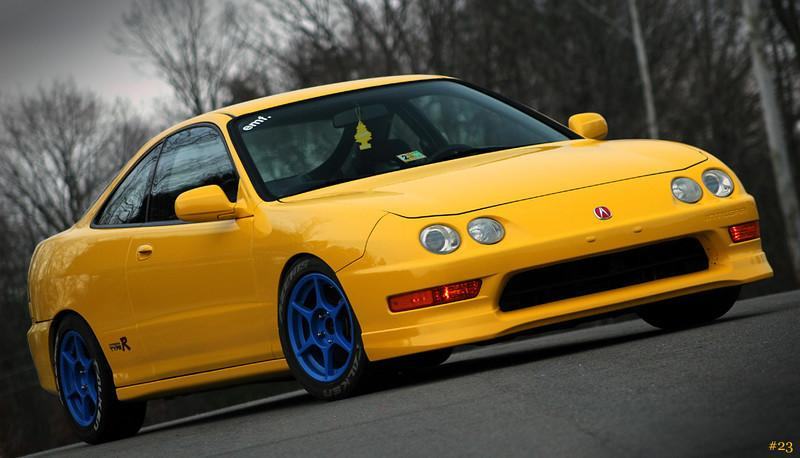car: (14, 69, 773, 441)
